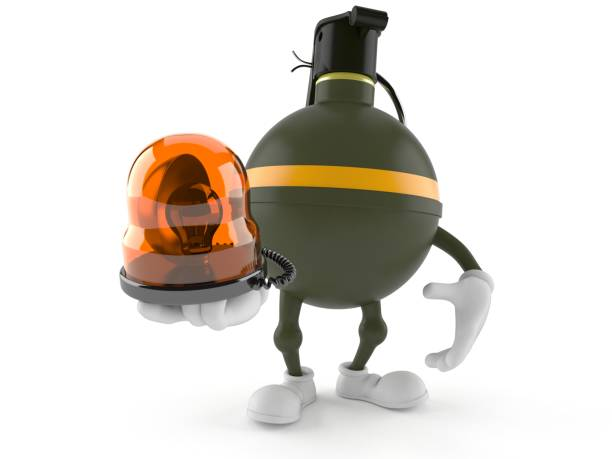e1: (239, 6, 439, 301)
